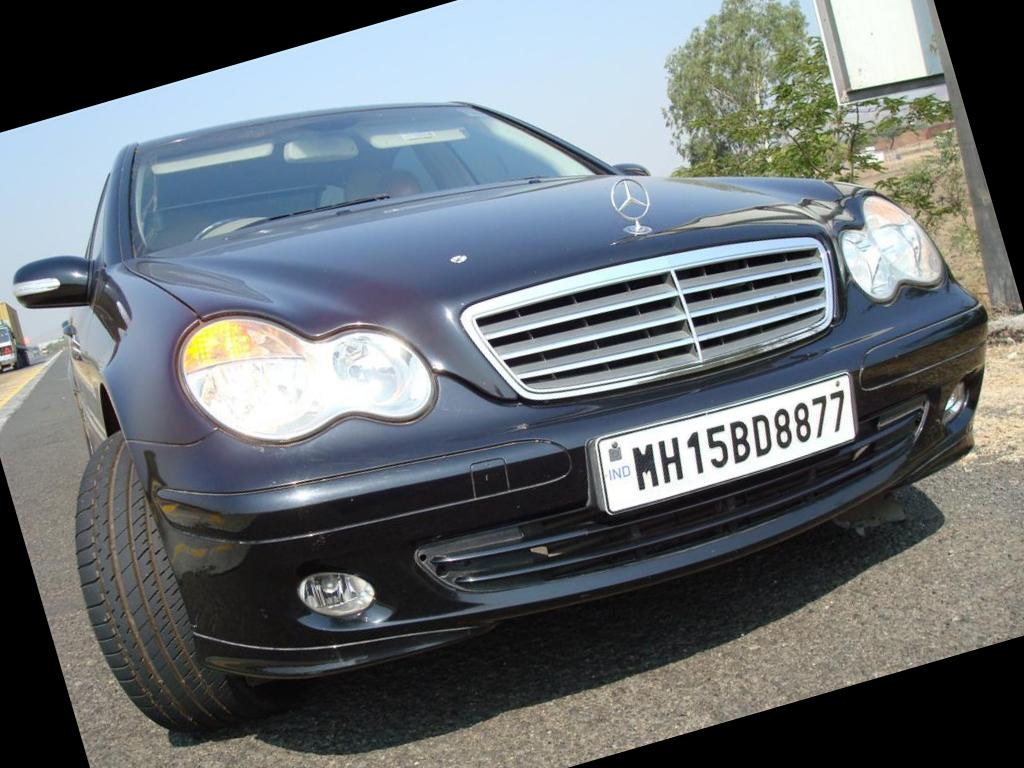plate: (577, 360, 878, 521)
